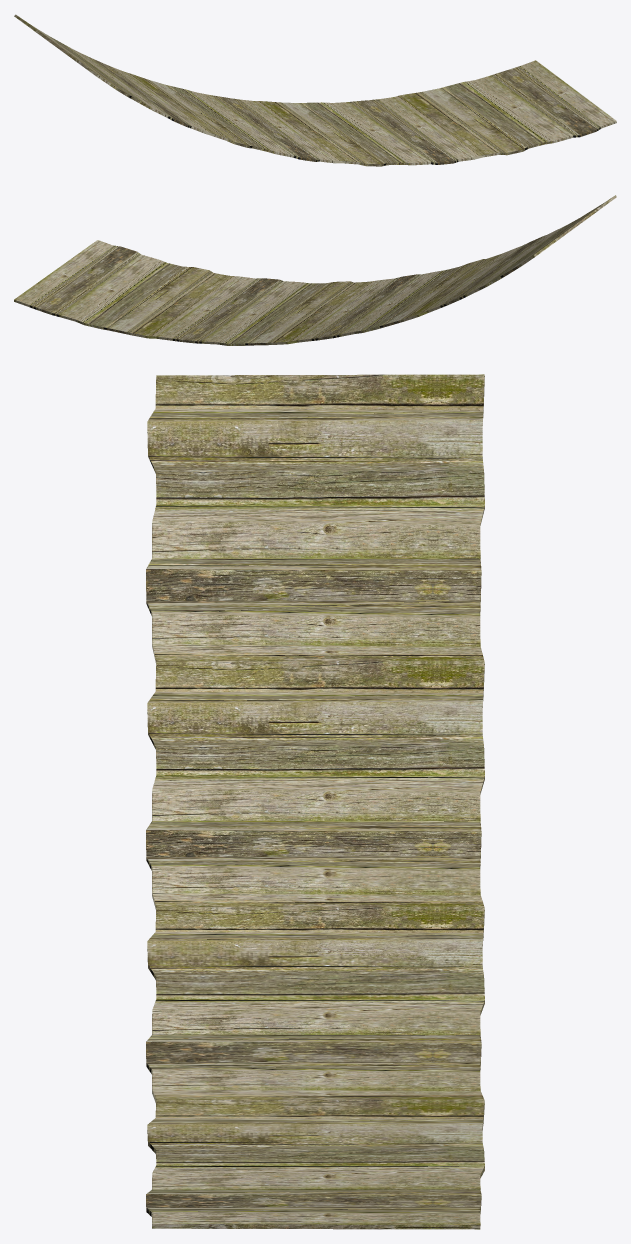
File: Col-R-R.fbx
3 views of the same model, one above another, from view 1: azimuth 30°, elevation 25°; view 2: azimuth 150°, elevation 25°; view 3: azimuth 270°, elevation 25° (orthographic). The views are drawn at different scales.
Visible parts, largest first — view 1: Ramp_037; view 2: Ramp_037; view 3: Ramp_037.
Boxes of the visible parts, x1,y1,x2,y2 form: Ramp_037: [14, 14, 616, 166]; Ramp_037: [14, 195, 616, 345]; Ramp_037: [146, 374, 484, 1229].
Size of the model in its own units: 731 by 240 by 206.
